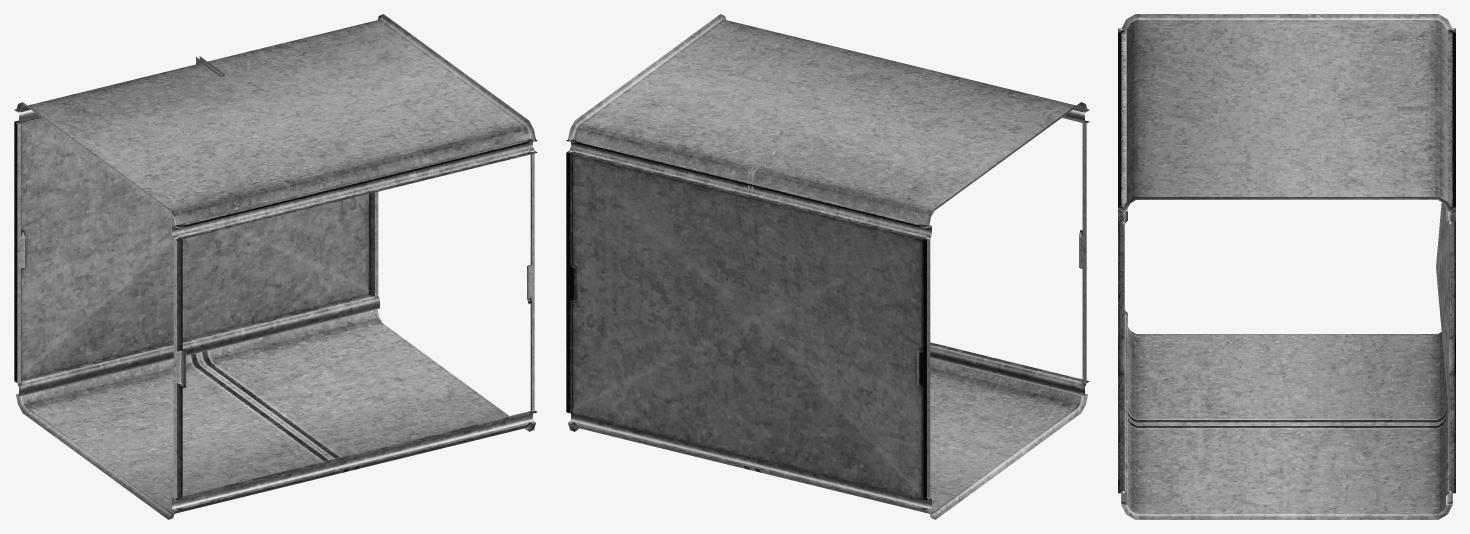
Rendered from vent_shaft_straight_vent_side.dae.
3 renders of one model, left to right at view 1: azimuth 30°, elevation 25°; view 2: azimuth 150°, elevation 25°; view 3: azimuth 270°, elevation 25°, orthographic. The views are drawn at different scales.
Visible parts, largest first — view 1: straight_vent_side; view 2: straight_vent_side; view 3: straight_vent_side.
Part boxes in pixels (bbox=[...]): straight_vent_side: bbox=[14, 14, 537, 519]; straight_vent_side: bbox=[566, 14, 1089, 519]; straight_vent_side: bbox=[1118, 14, 1455, 519].
Bounding box in the file's own units: 2 × 1.65 × 1.56.
